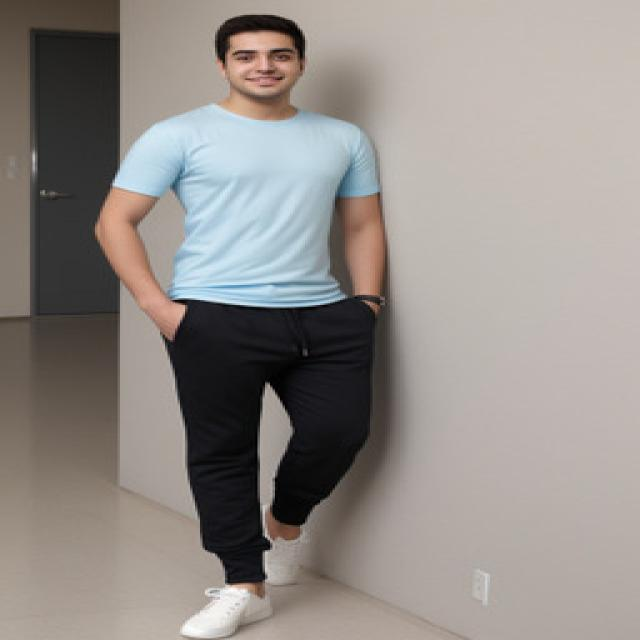Ai human 2: (88, 15, 418, 640)
